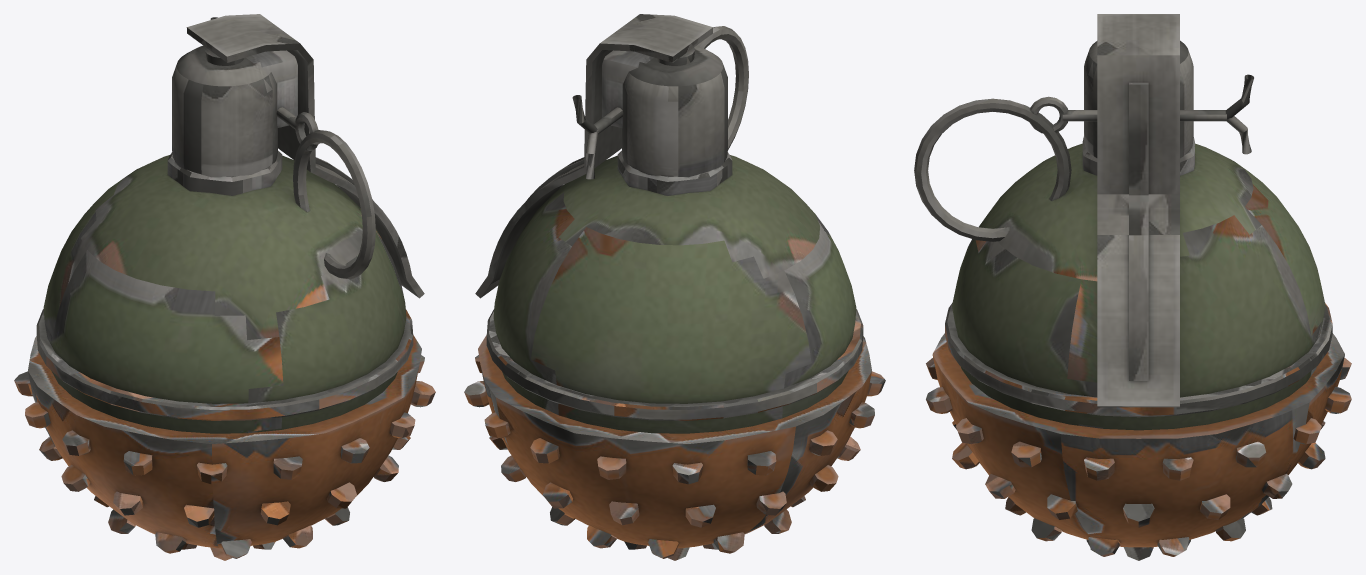
File: frag_grenade_alt.glb
The picture shows the model from 3 angles, left to right: view 1: azimuth 30°, elevation 25°; view 2: azimuth 150°, elevation 25°; view 3: azimuth 270°, elevation 25°; orthographic projection. The views are drawn at different scales.
Visible parts, largest first — view 1: body, pad, fuze_body, seam, spoon, pull_ring, fuze_neck, fuze_striker, knob_37, knob_35, knob_21, knob_34 (+6 smaller); view 2: body, pad, fuze_body, spoon, seam, fuze_neck, pull_ring, fuze_striker, knob_40, knob_42, knob_27, knob_43 (+6 smaller); view 3: body, pad, spoon, seam, spoon_rib, pull_ring, fuze_body, pin, fuze_neck, knob_32, knob_45, knob_17 (+5 smaller).
Part boxes in pixels (<box>): body: <box>43,155,406,433</box>; pad: <box>28,335,421,548</box>; fuze_body: <box>172,45,277,177</box>; seam: <box>36,309,413,420</box>; spoon: <box>186,14,424,298</box>; pull_ring: <box>293,130,375,279</box>; fuze_neck: <box>167,150,282,195</box>; fuze_striker: <box>246,50,297,128</box>; knob_37: <box>123,451,152,475</box>; knob_35: <box>273,456,302,479</box>; knob_21: <box>260,501,290,525</box>; knob_34: <box>340,438,369,463</box>; body: <box>493,155,856,433</box>; pad: <box>478,335,871,548</box>; fuze_body: <box>622,45,727,177</box>; spoon: <box>475,14,713,298</box>; seam: <box>486,309,863,420</box>; fuze_neck: <box>617,150,732,195</box>; pull_ring: <box>697,26,748,149</box>; fuze_striker: <box>602,50,653,128</box>; knob_40: <box>747,451,776,475</box>; knob_42: <box>597,456,626,479</box>; knob_27: <box>609,501,639,525</box>; knob_43: <box>530,438,559,463</box>; body: <box>952,143,1325,430</box>; pad: <box>932,333,1344,547</box>; spoon: <box>1097,14,1179,407</box>; seam: <box>945,303,1332,417</box>; spoon_rib: <box>1129,82,1148,380</box>; pull_ring: <box>914,98,1071,241</box>; fuze_body: <box>1084,40,1193,158</box>; pin: <box>1062,110,1226,121</box>; fuze_neck: <box>1082,137,1194,175</box>; knob_32: <box>1011,441,1041,467</box>; knob_45: <box>1235,441,1266,467</box>; knob_17: <box>1123,503,1154,527</box>.
Bounding box in the file's own units: 0.0701 × 0.0941 × 0.072.
1 material, 1 textured.
